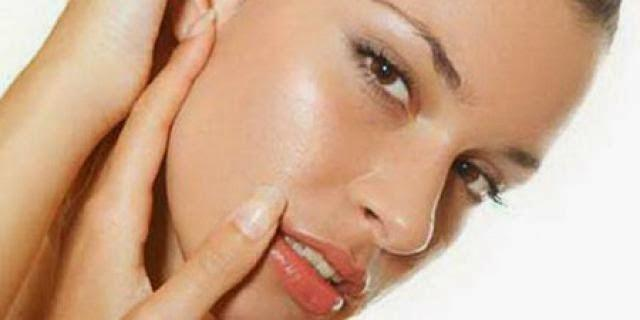Oily-Skin: (282, 61, 337, 199)
